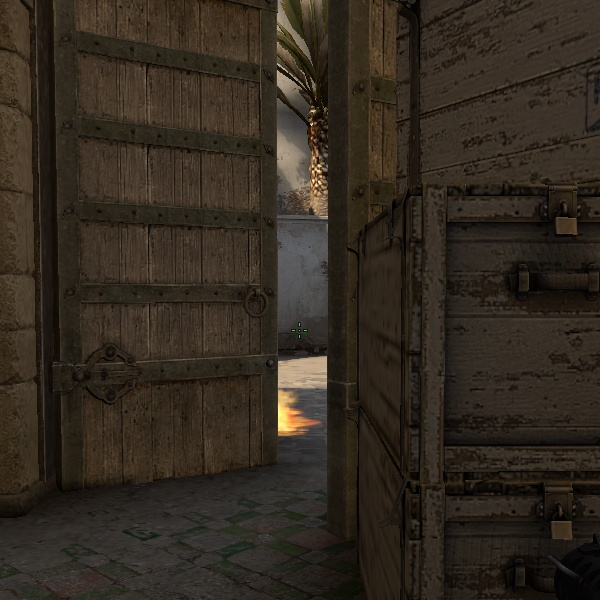t_body: (290, 99, 338, 213)
